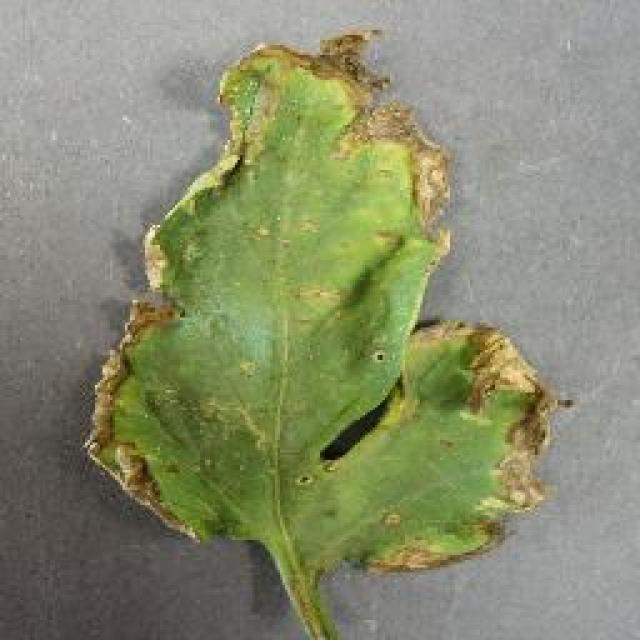bacterial spot: (80, 25, 572, 639)
